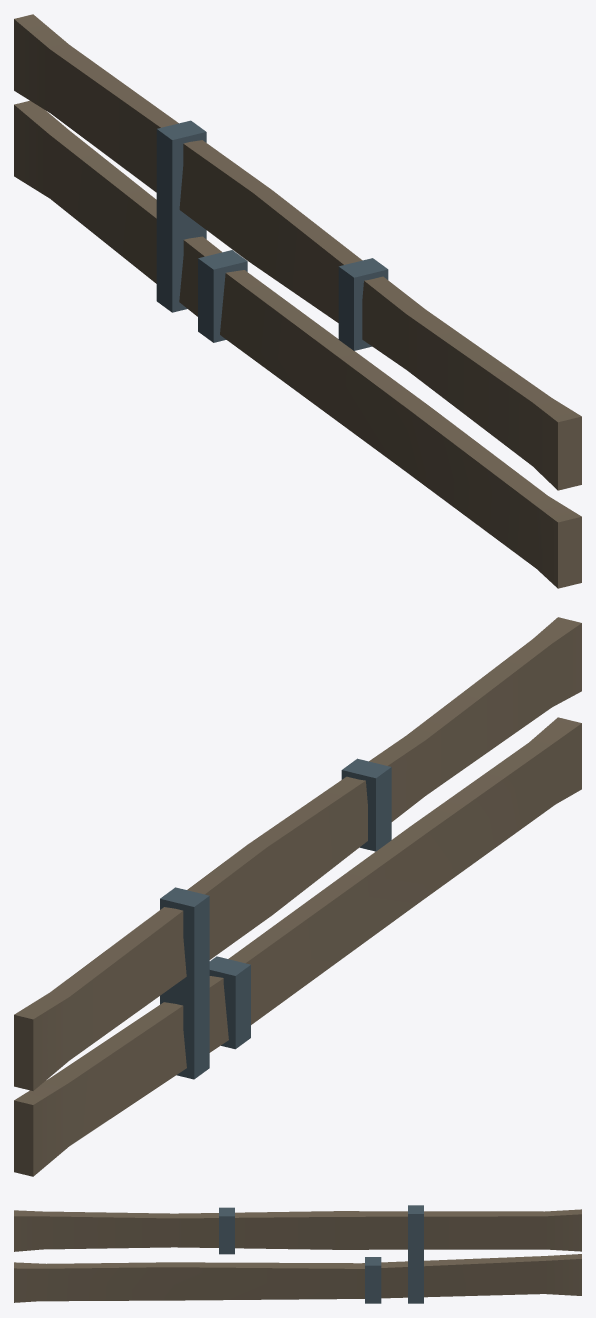
File: Fence_02.fbx
The picture shows the model from 3 angles, top to bottom: view 1: azimuth 30°, elevation 25°; view 2: azimuth 150°, elevation 25°; view 3: azimuth 270°, elevation 25°; orthographic projection. The views are drawn at different scales.
Parts seen in each view (by area): view 1: Fence_02; view 2: Fence_02; view 3: Fence_02.
Part boxes in pixels (<box>): Fence_02: <box>14,14,581,588</box>; Fence_02: <box>14,617,581,1176</box>; Fence_02: <box>14,1205,581,1303</box>.
Size of the model in its own units: 14.66 by 70.67 by 405.
